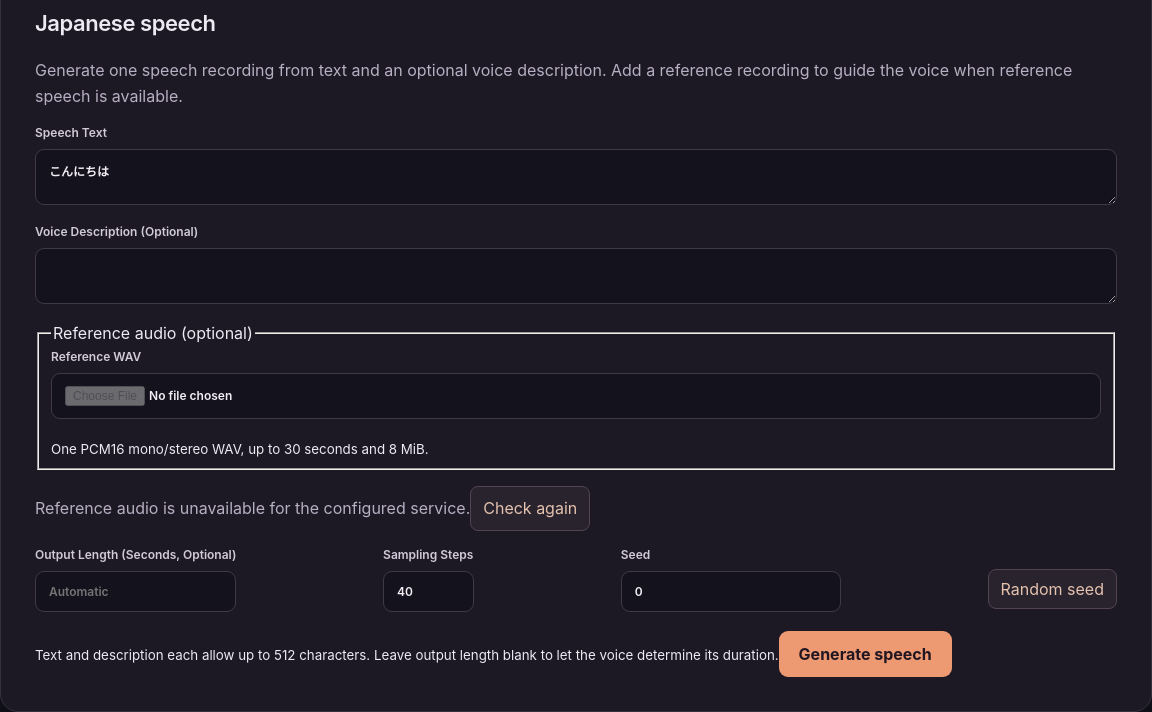
it: known active receipt sends one UUID and keeps its pending fence until terminal
(page scrolled)
Step 1. Submit the form
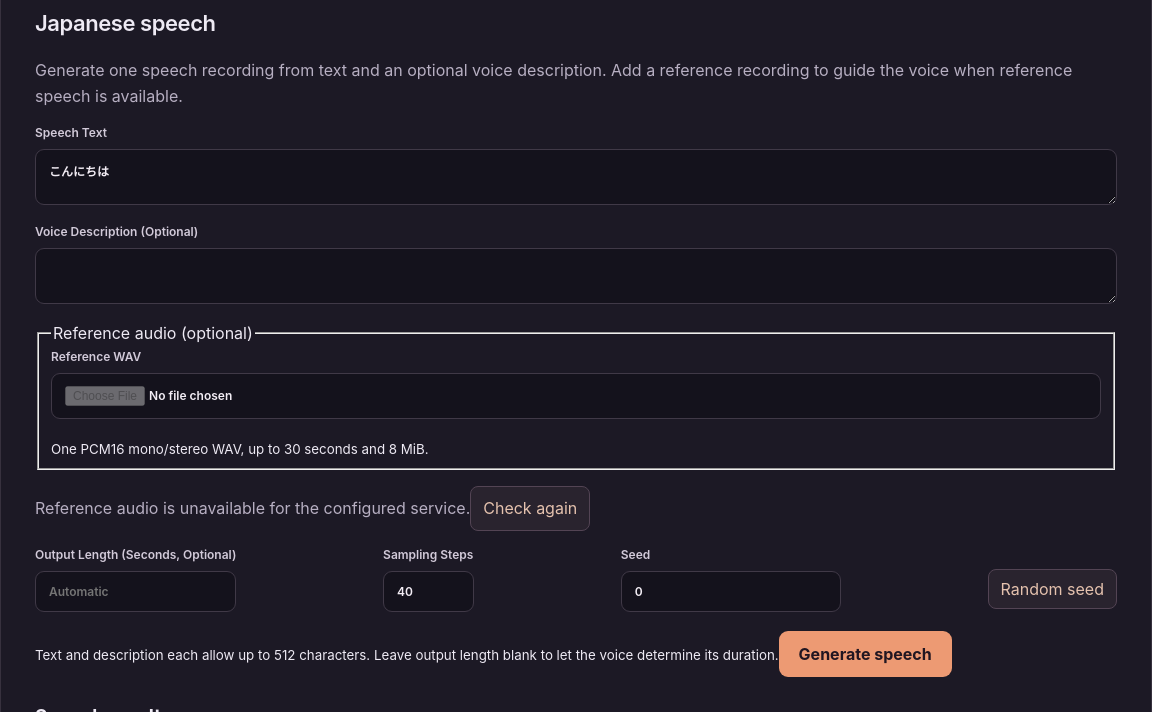
Step 2. Click the button "Generate speech" → x=865, y=654, box left=779, top=631, right=952, bottom=677
(page scrolled)
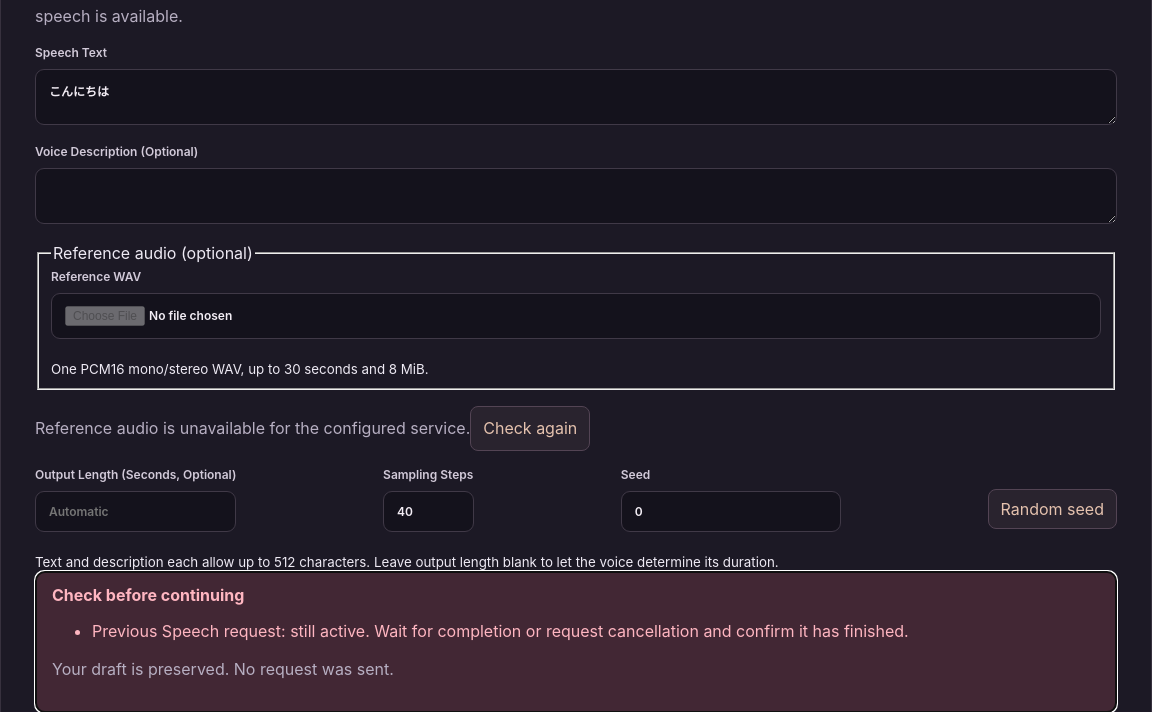
Expected: the message named "Action needs attention" is shown, left=35, top=571, right=1117, bottom=711
Expected: the text "No request was sent." is shown, left=52, top=659, right=394, bottom=679
